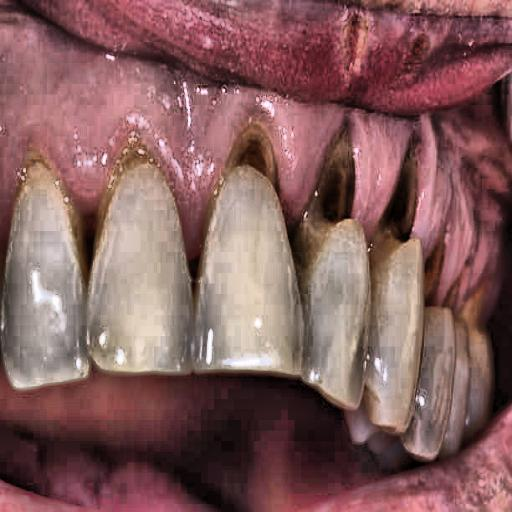Gingivitis: (4, 15, 319, 226), (326, 95, 509, 320)
